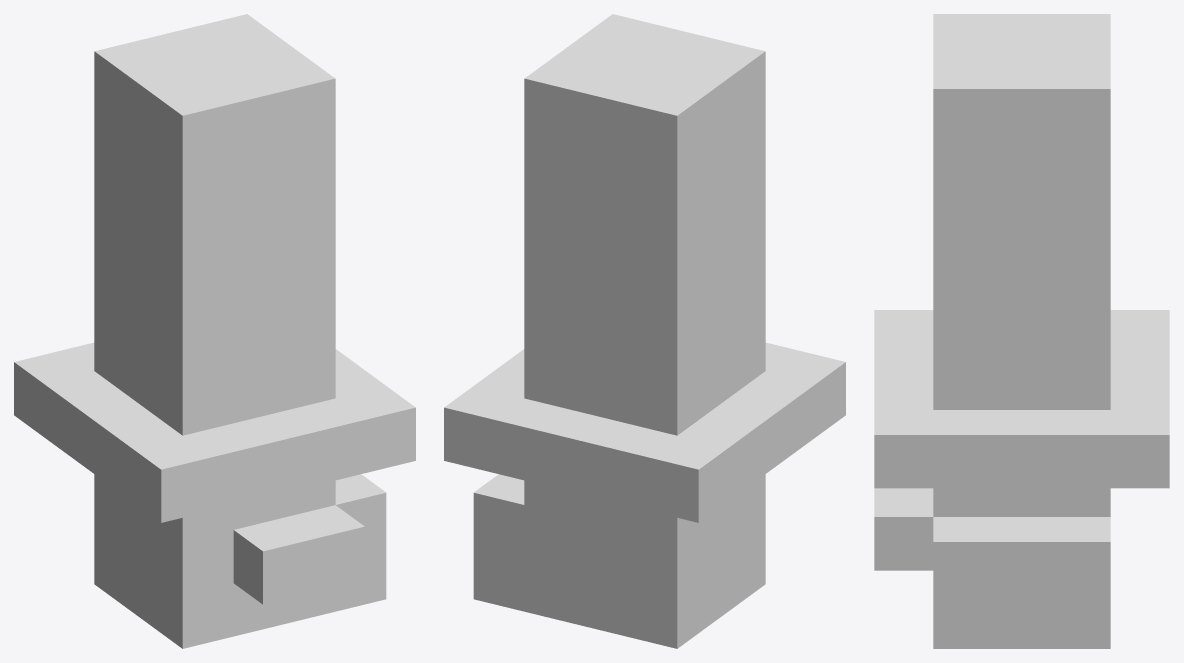
The model's file is arm2.obj.
3 renders of one model, left to right at view 1: azimuth 30°, elevation 25°; view 2: azimuth 150°, elevation 25°; view 3: azimuth 270°, elevation 25°, orthographic.
Size of the model in its own units: 5 by 10 by 5.
Materials: 1 (1 with a texture image).
